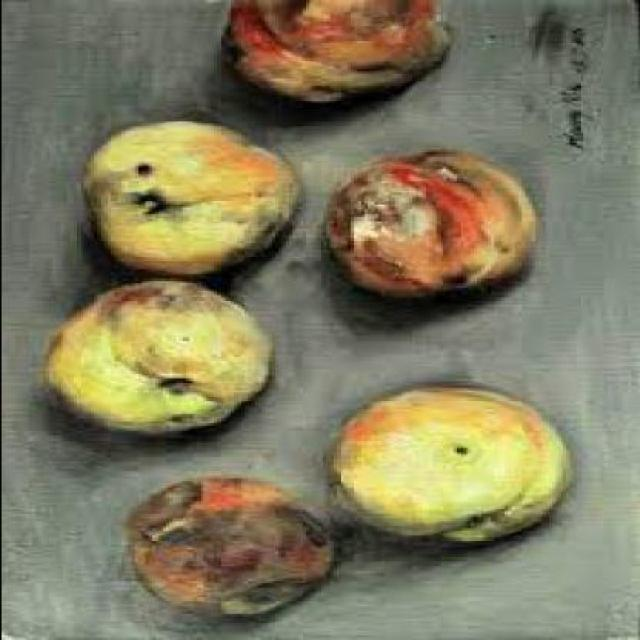BIODEGRADABLE: (335, 388, 574, 545), (42, 282, 272, 437), (83, 123, 300, 278), (323, 151, 535, 303), (128, 475, 331, 623), (225, 0, 449, 103)
